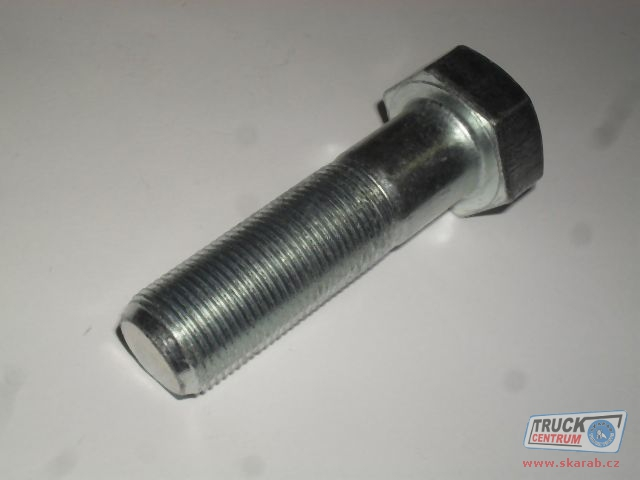screw: (118, 43, 546, 399)
